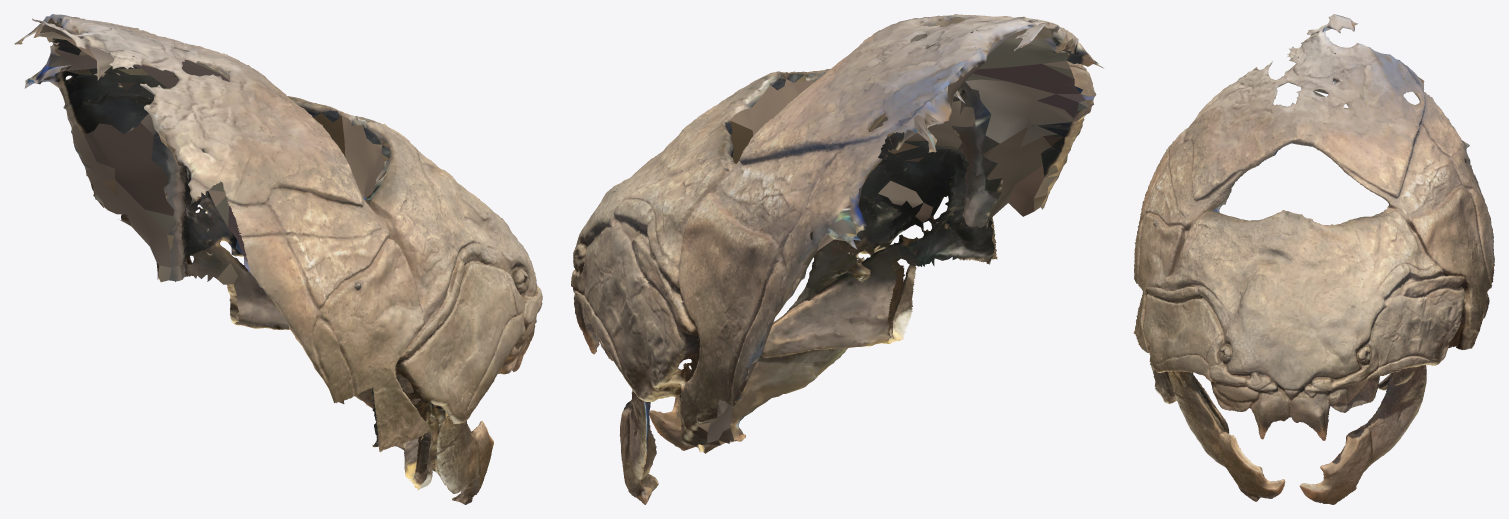
The model's file is dunkleosteus.glb.
The picture shows the model from 3 angles, left to right: view 1: azimuth 30°, elevation 25°; view 2: azimuth 150°, elevation 25°; view 3: azimuth 270°, elevation 25°; orthographic projection. The views are drawn at different scales.
Parts seen in each view (by area): view 1: model; view 2: model; view 3: model.
Part boxes in pixels (x1,y1,x2,y2): model: (14,14,542,504); model: (571,14,1103,504); model: (1133,14,1494,504).
Bounding box in the file's own units: 1.42 × 1.61 × 1.45.
1 material, 1 textured.
